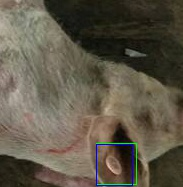text: (96, 143, 136, 184)
